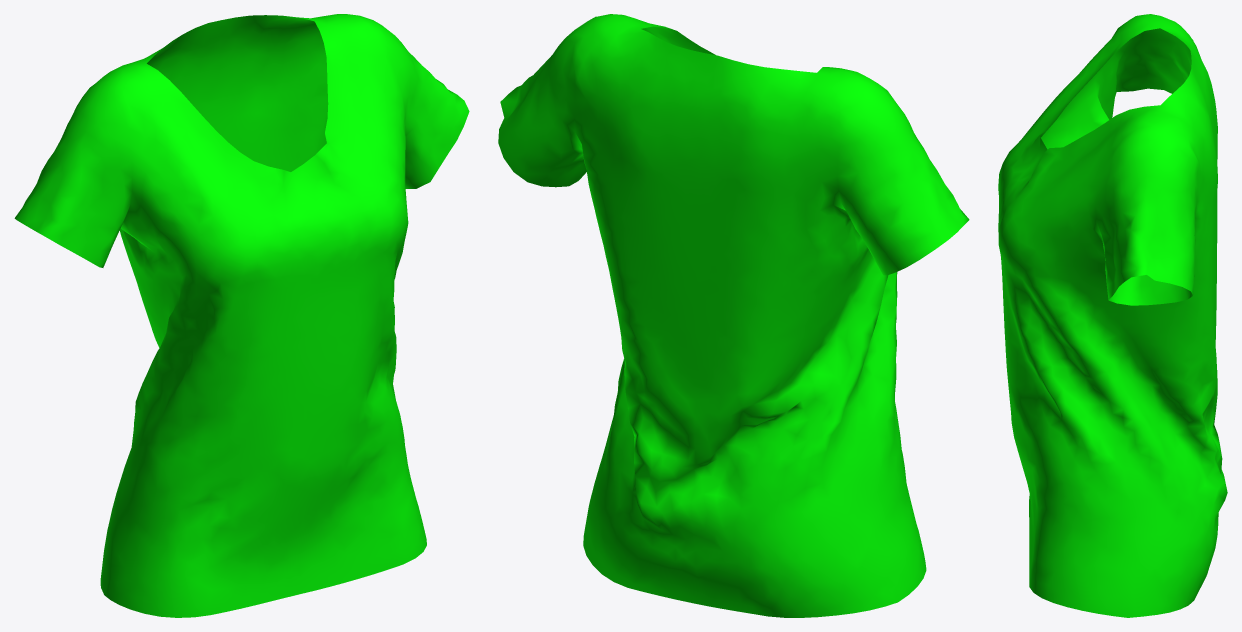
The model's file is female tshirt3.glb.
3 views of the same model, side by side, from view 1: azimuth 30°, elevation 25°; view 2: azimuth 150°, elevation 25°; view 3: azimuth 270°, elevation 25° (orthographic). The views are drawn at different scales.
Visible parts, largest first — view 1: Simple women .t shirt; view 2: Simple women .t shirt; view 3: Simple women .t shirt.
Boxes of the visible parts, left/top/right/bottom form: Simple women .t shirt: left=14, top=14, right=469, bottom=617; Simple women .t shirt: left=498, top=14, right=969, bottom=617; Simple women .t shirt: left=998, top=14, right=1227, bottom=617.
Size of the model in its own units: 0.5824 by 0.6698 by 0.2784.
